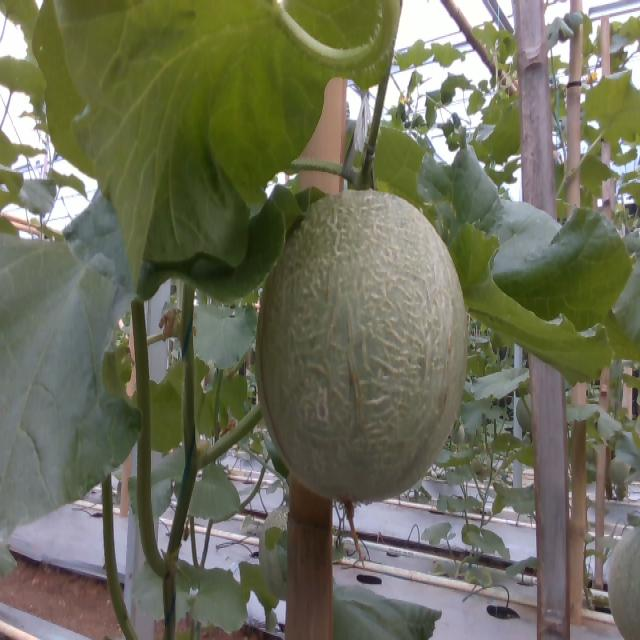melon: (258, 191, 468, 502)
